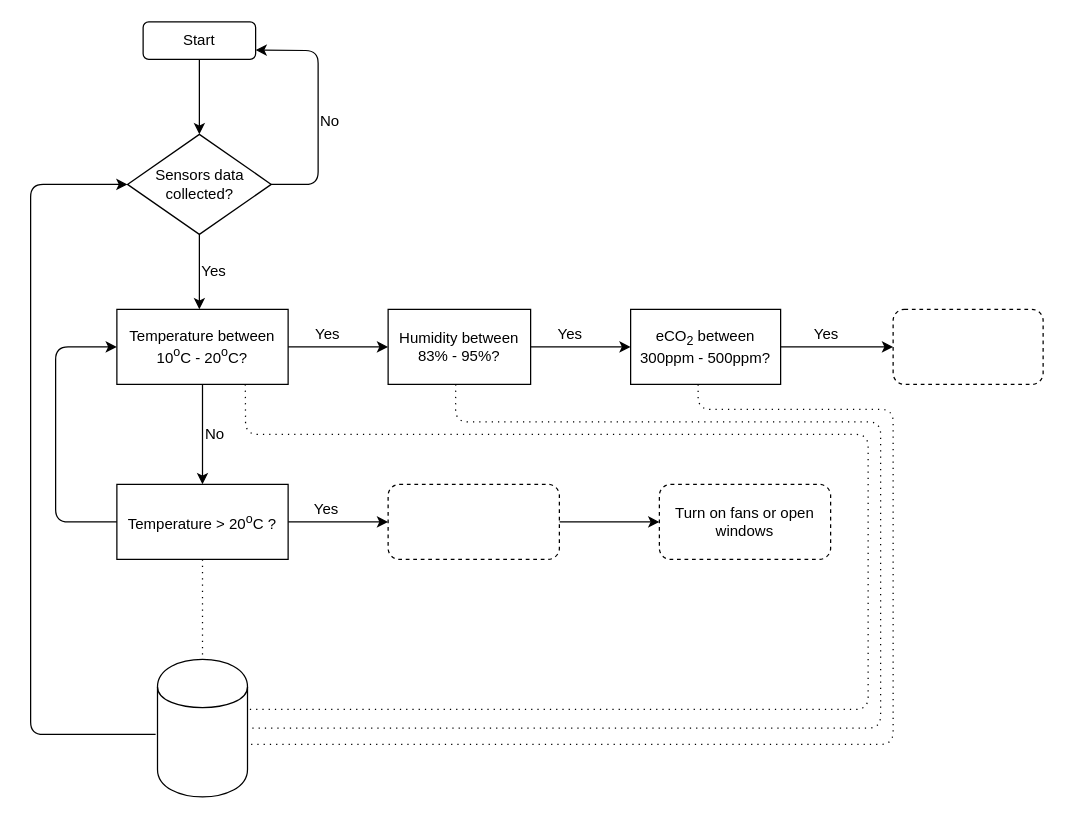
Some shapes in this 1065 by 819 pixel diagram are drawn without their labels. Each missing label, with the box of its shape:
Database update: (156, 658, 248, 797)
Message: No watering required.: (892, 308, 1043, 384)
Message: Watering Required!: (387, 483, 559, 559)
